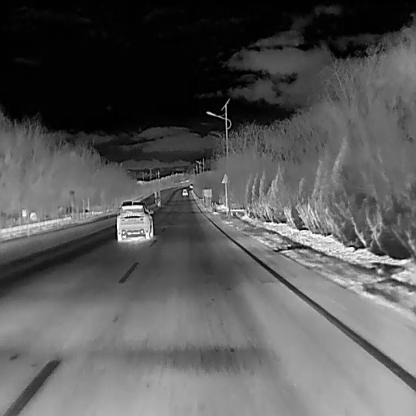car: (115, 198, 153, 242), (182, 188, 187, 195)
